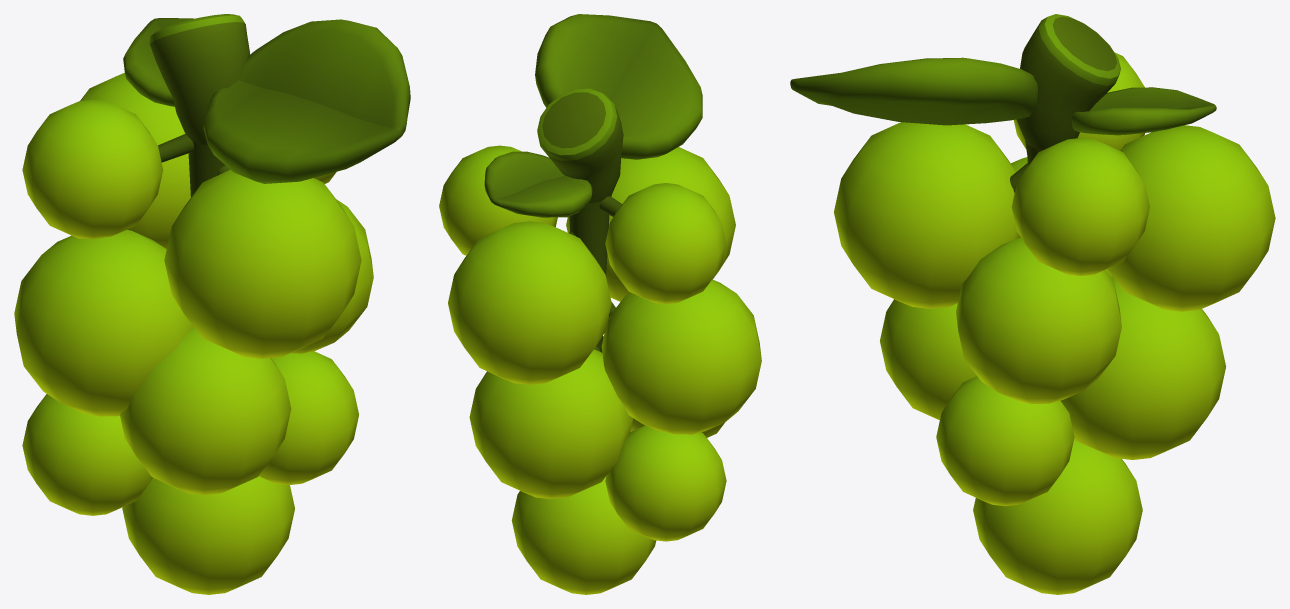
The model's file is Grape_V1_01.fbx.
3 renders of one model, left to right at view 1: azimuth 30°, elevation 25°; view 2: azimuth 150°, elevation 25°; view 3: azimuth 270°, elevation 25°, orthographic. The views are drawn at different scales.
Visible parts, largest first — view 1: Grape_V1_01; view 2: Grape_V1_01; view 3: Grape_V1_01.
Part boxes in pixels (box(x1,y1,x2,y2)): Grape_V1_01: box(14, 14, 410, 594); Grape_V1_01: box(439, 14, 761, 594); Grape_V1_01: box(790, 14, 1275, 594).
Size of the model in its own units: 28.94 by 48 by 36.79.
